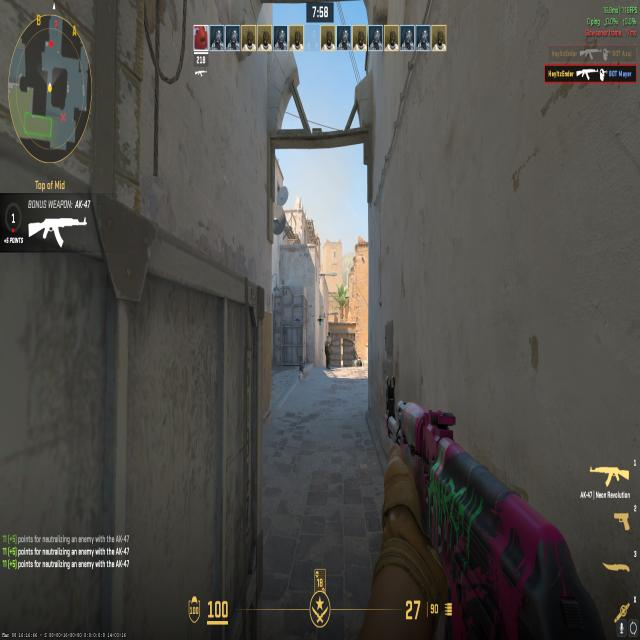ct: (355, 356, 361, 366)
t: (323, 330, 334, 370)
